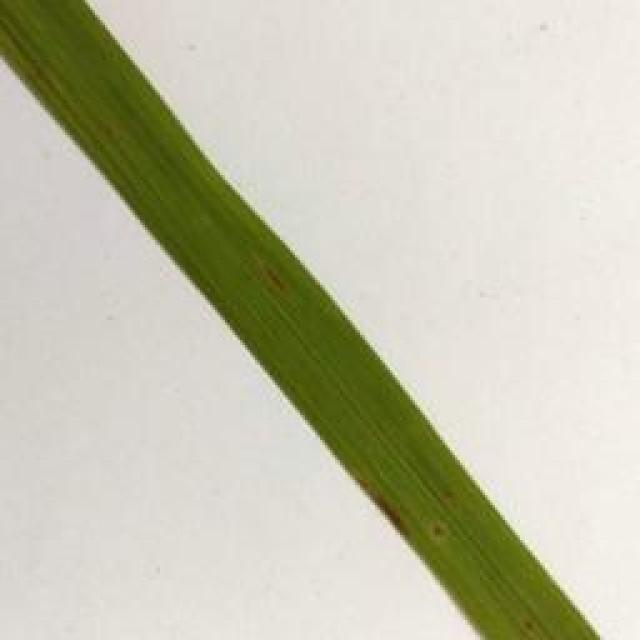Brown_Spot: (359, 479, 423, 534), (264, 264, 296, 298), (427, 512, 458, 547), (520, 619, 547, 635), (443, 487, 458, 508)
